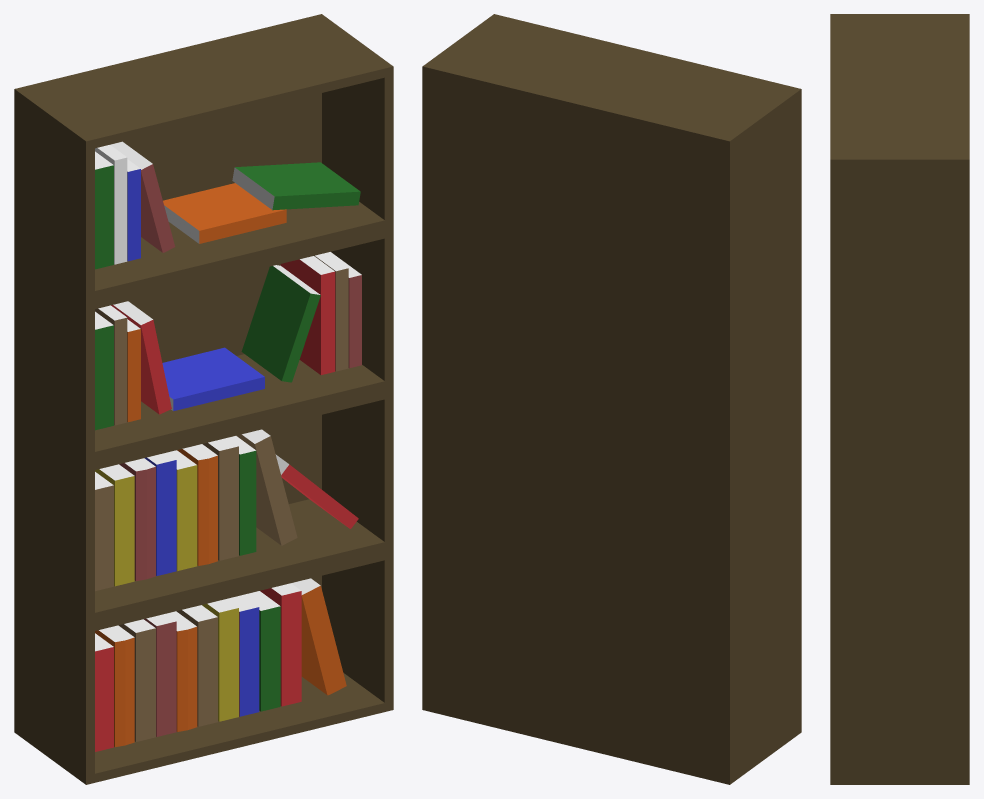
The model's file is BookShelf_01.glb.
The picture shows the model from 3 angles, left to right: view 1: azimuth 30°, elevation 25°; view 2: azimuth 150°, elevation 25°; view 3: azimuth 270°, elevation 25°; orthographic projection. The views are drawn at different scales.
Parts seen in each view (by area): view 1: BookShelf01; view 2: BookShelf01; view 3: BookShelf01.
Part boxes in pixels (x1,y1,x2,y2): BookShelf01: (14, 14, 393, 784); BookShelf01: (422, 14, 801, 784); BookShelf01: (830, 14, 969, 784).
Bounding box in the file's own units: 4.95 × 9.91 × 2.
Materials: 1 (1 with a texture image).
